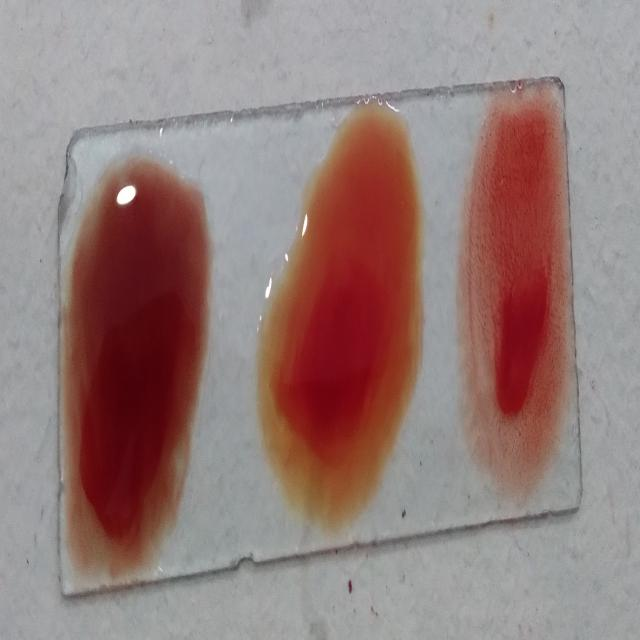D: (465, 88, 563, 481)
